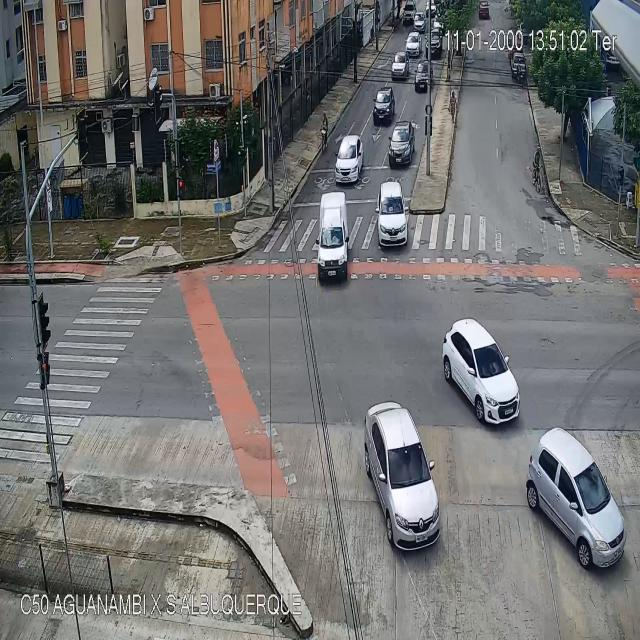Car: (526, 426, 624, 570), (364, 401, 442, 551), (443, 316, 523, 424), (315, 190, 352, 288), (376, 181, 407, 247), (334, 136, 363, 185), (387, 120, 415, 165), (387, 46, 412, 85), (372, 89, 394, 123), (405, 26, 425, 61), (414, 62, 432, 92), (426, 28, 446, 55), (411, 4, 429, 33), (399, 0, 416, 27), (512, 53, 526, 79), (433, 13, 451, 33), (478, 1, 491, 24), (424, 0, 438, 18)
Motorcycle: (516, 63, 522, 83)
